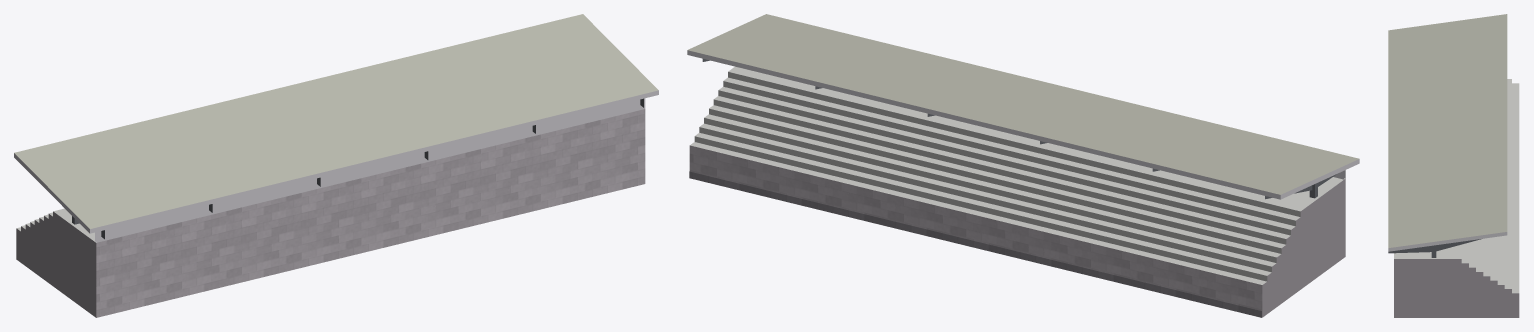
3 views of the same model, side by side, from view 1: azimuth 30°, elevation 25°; view 2: azimuth 150°, elevation 25°; view 3: azimuth 270°, elevation 25° (orthographic). The views are drawn at different scales.
Parts seen in each view (by area): view 1: stand149__roof, stand149__wall, stand149__trim; view 2: stand149__roof, stand149__seat, stand149__seatRiser, stand149__wall, stand149__base, stand149__trim; view 3: stand149__roof, stand149__wall, stand149__seat, stand149__trim, stand149__frame.
Boxes of the visible parts, x1=… form: stand149__roof: x1=14, y1=14, x2=658, y2=228; stand149__wall: x1=16, y1=109, x2=645, y2=317; stand149__trim: x1=14, y1=90, x2=658, y2=242; stand149__roof: x1=687, y1=14, x2=1359, y2=194; stand149__seat: x1=690, y1=66, x2=1345, y2=284; stand149__seatRiser: x1=694, y1=72, x2=1300, y2=281; stand149__wall: x1=689, y1=145, x2=1345, y2=317; stand149__base: x1=689, y1=171, x2=1261, y2=317; stand149__trim: x1=687, y1=50, x2=1359, y2=199; stand149__roof: x1=1388, y1=14, x2=1507, y2=247; stand149__wall: x1=1394, y1=259, x2=1519, y2=317; stand149__seat: x1=1394, y1=79, x2=1519, y2=293; stand149__trim: x1=1388, y1=232, x2=1507, y2=251; stand149__frame: x1=1388, y1=239, x2=1481, y2=257.
Size of the model in its own units: 45.69 by 8.8 by 11.64.
Materials: 8 (2 with a texture image).
